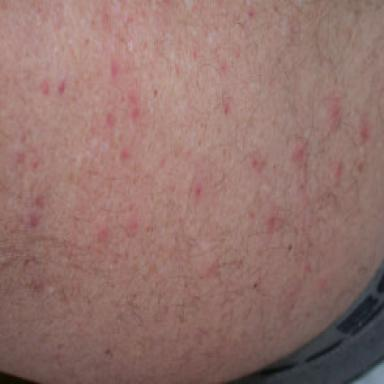acne: (326, 97, 341, 132), (293, 142, 307, 167), (250, 152, 265, 173), (125, 215, 139, 236), (359, 121, 371, 144), (126, 88, 139, 104), (29, 212, 41, 229), (110, 57, 120, 77), (97, 227, 109, 242), (266, 215, 276, 233), (120, 147, 131, 163), (334, 163, 344, 180), (131, 103, 140, 120), (223, 96, 230, 115), (219, 59, 227, 75), (158, 155, 167, 169), (107, 112, 115, 127), (194, 182, 202, 197), (41, 80, 49, 94), (35, 195, 44, 207), (31, 159, 40, 170), (247, 5, 254, 18), (16, 153, 25, 163), (59, 80, 65, 95)
